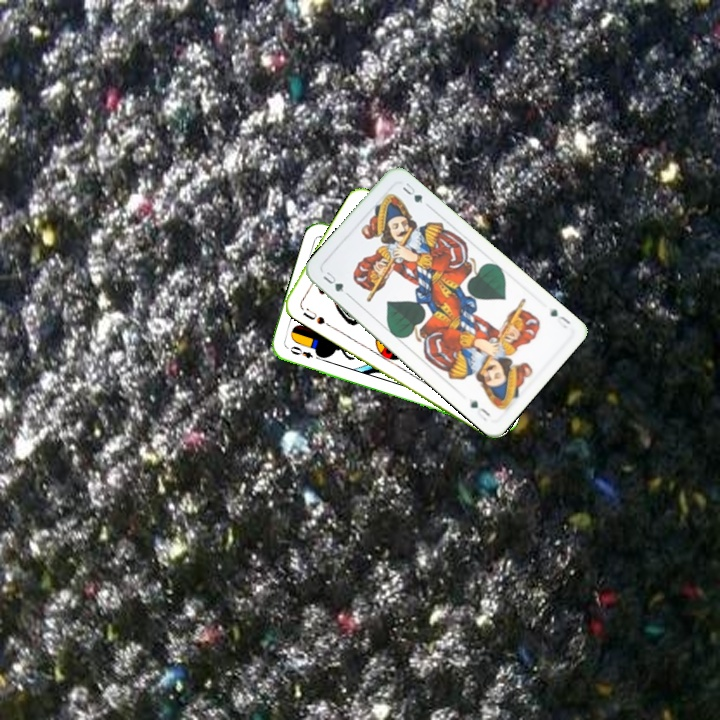EO: (286, 342, 323, 363)
GU: (319, 267, 346, 295), (546, 305, 573, 331)
SU: (299, 304, 327, 327)
